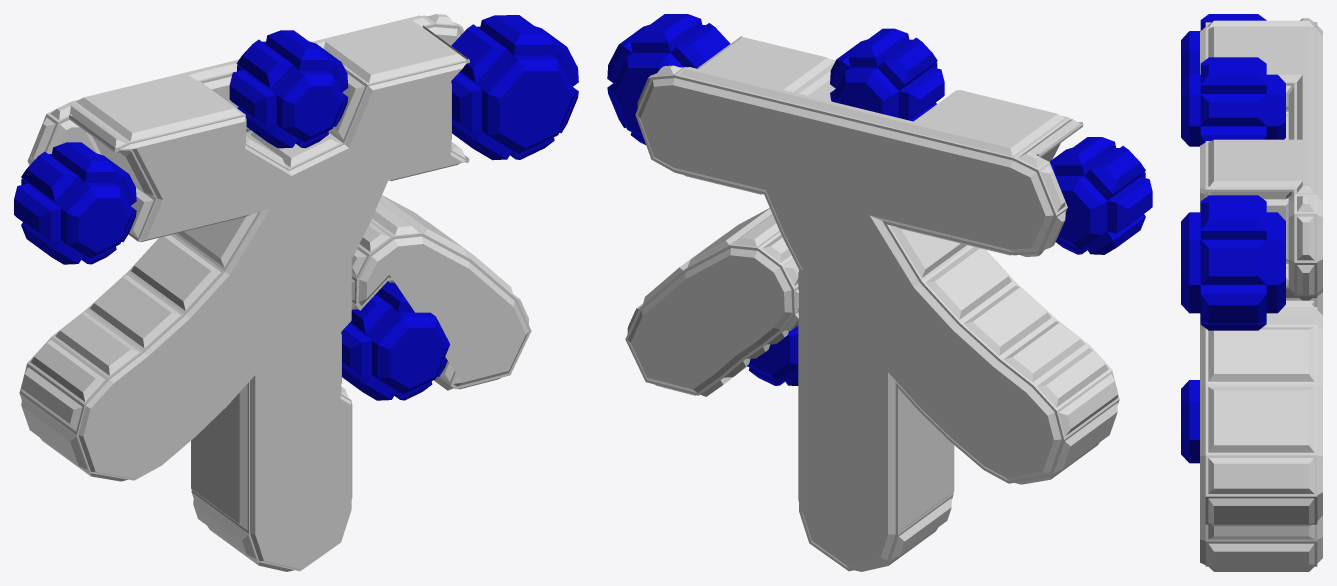
The model's file is Ch_China_不_01.fbx.
3 views of the same model, side by side, from view 1: azimuth 30°, elevation 25°; view 2: azimuth 150°, elevation 25°; view 3: azimuth 270°, elevation 25° (orthographic). The views are drawn at different scales.
Visible parts, largest first — view 1: sphere1; view 2: sphere1; view 3: sphere1.
Boxes of the visible parts, <box> form: sphere1: <box>14,14,578,571</box>; sphere1: <box>607,14,1152,571</box>; sphere1: <box>1181,14,1322,571</box>.
Bounding box in the file's own units: 1.08 × 1 × 0.2541.
